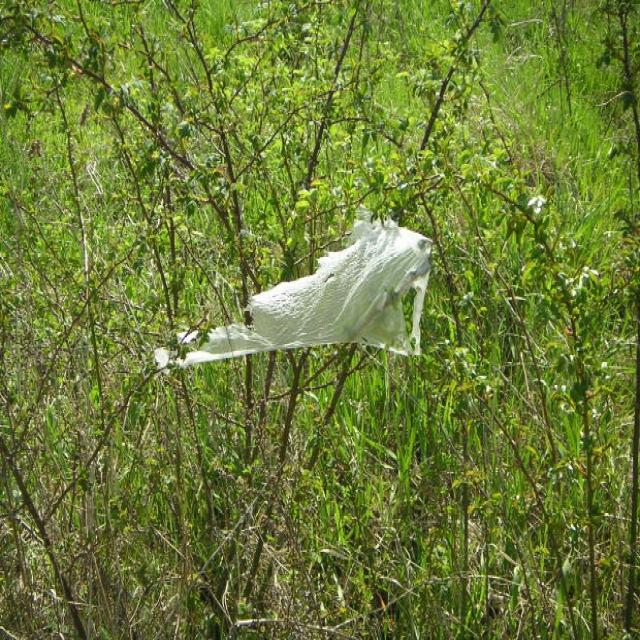trash: (163, 207, 458, 370)
